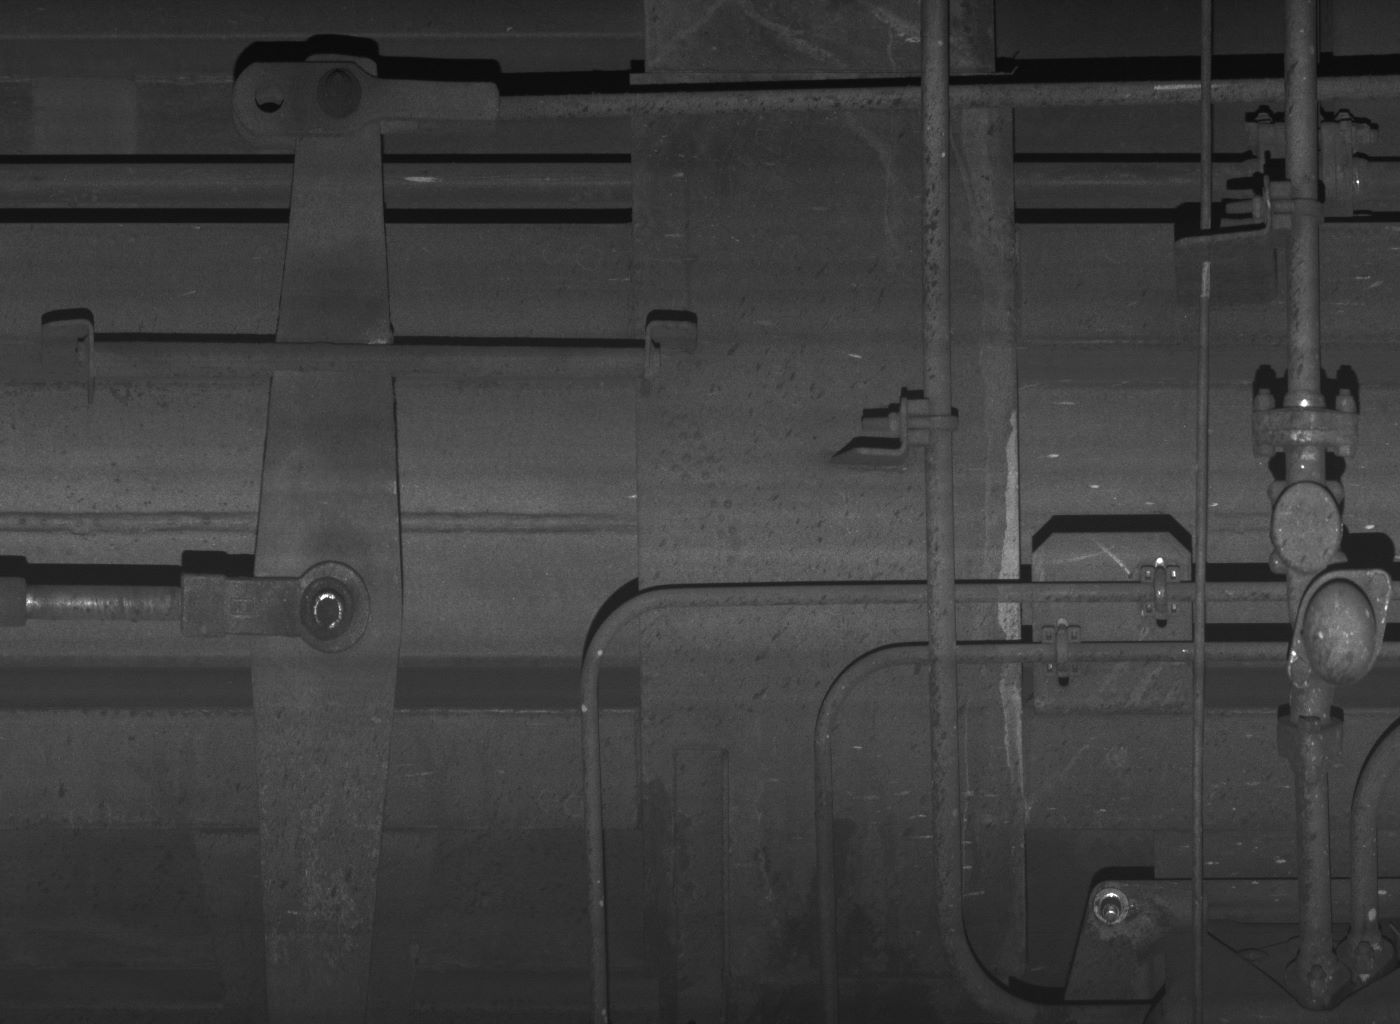normal: (1268, 476, 1349, 573)
